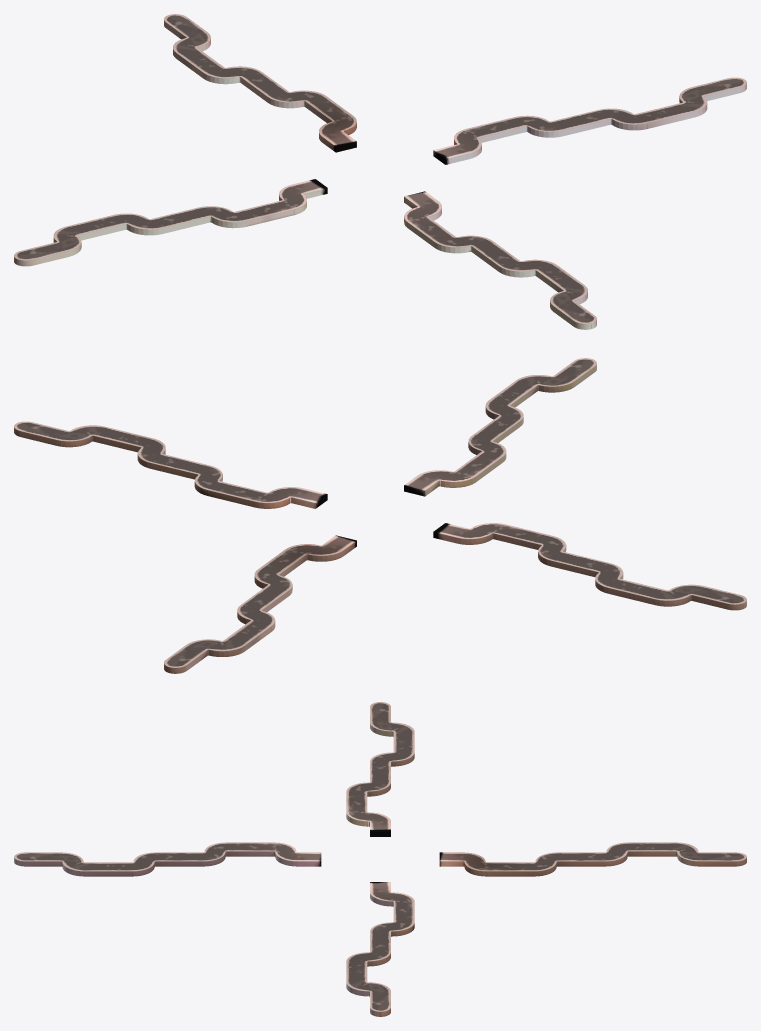
File: LIGHT_SUPPORT.glb
The picture shows the model from 3 angles, top to bottom: view 1: azimuth 30°, elevation 25°; view 2: azimuth 150°, elevation 25°; view 3: azimuth 270°, elevation 25°; orthographic projection. The views are drawn at different scales.
Visible parts, largest first — view 1: SUPPORT; view 2: SUPPORT; view 3: SUPPORT.
Boxes of the visible parts, x1,y1,x2,y2 form: SUPPORT: (14,14,746,329); SUPPORT: (14,358,746,673); SUPPORT: (14,702,746,1016).
Size of the model in its own units: 62 by 0.4801 by 62.
1 material, 1 textured.
